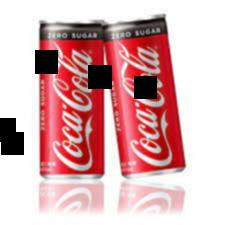cocacola_zero: (102, 18, 186, 180), (36, 16, 109, 180)
